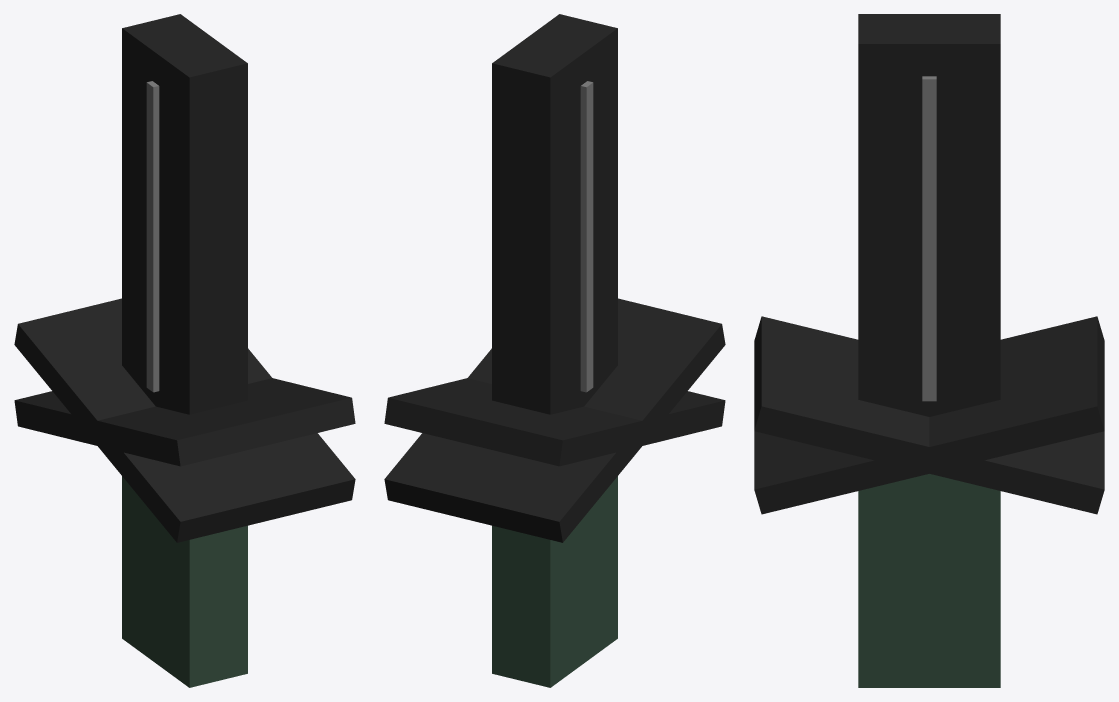
File: ShadowDagger.fbx
The picture shows the model from 3 angles, left to right: view 1: azimuth 30°, elevation 25°; view 2: azimuth 150°, elevation 25°; view 3: azimuth 270°, elevation 25°; orthographic projection. The views are drawn at different scales.
Parts seen in each view (by area): view 1: Cube.001, Cube.002, Cube.005, Cube.006, Cube.004; view 2: Cube.001, Cube.006, Cube.005, Cube.002, Cube.004; view 3: Cube.001, Cube.005, Cube.002, Cube.006, Cube.003.
Part boxes in pixels (x1,y1,x2,y2): Cube.001: [122, 14, 247, 414]; Cube.002: [14, 298, 355, 542]; Cube.005: [122, 476, 247, 687]; Cube.006: [14, 378, 355, 466]; Cube.004: [146, 81, 159, 392]; Cube.001: [492, 14, 617, 414]; Cube.006: [384, 298, 725, 542]; Cube.005: [492, 476, 617, 687]; Cube.002: [384, 378, 725, 466]; Cube.004: [580, 81, 593, 392]; Cube.001: [858, 14, 1000, 416]; Cube.005: [858, 474, 1000, 687]; Cube.002: [754, 316, 1104, 514]; Cube.006: [754, 316, 1104, 514]; Cube.003: [922, 76, 936, 401].
Size of the model in its own units: 30 by 100 by 49.33.
